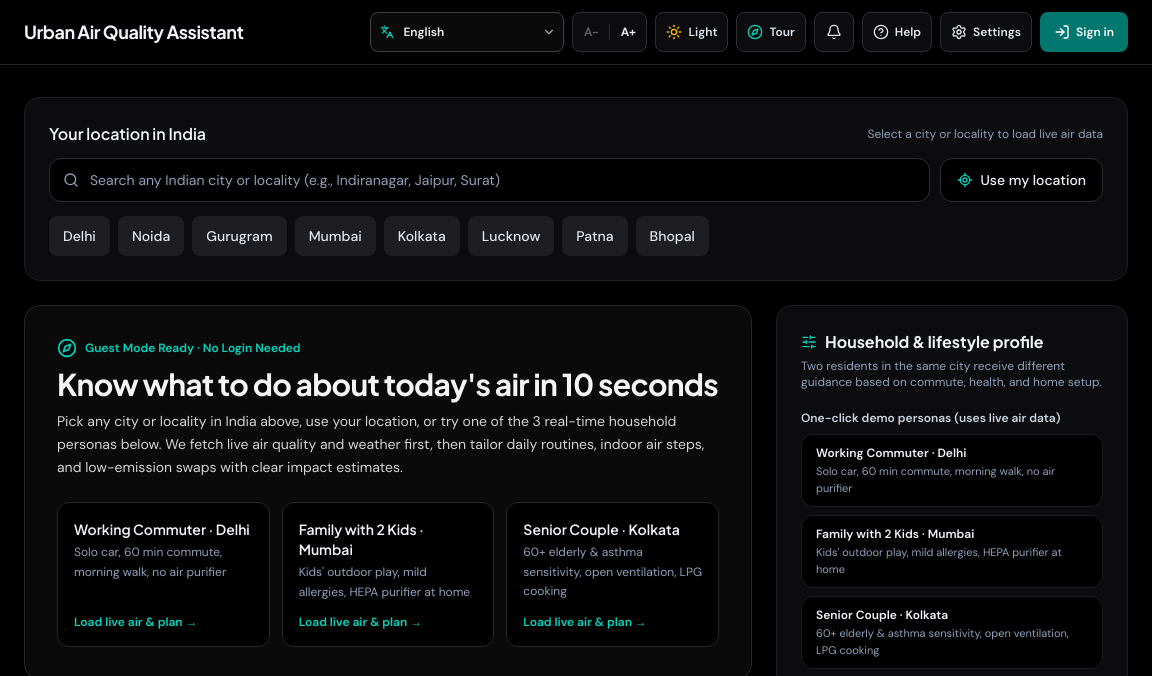
Test case: Top toolbar controls (Regional Languages, Black Default Theme, Font Size, Coachmark Tour) & Separate Login Page › navigates to a dedicated separate Login page and allows returning to Guest Mode (in English & Regional Languages)
Click the button "Sign in" at (1084, 32), box [1040,12,1128,52]
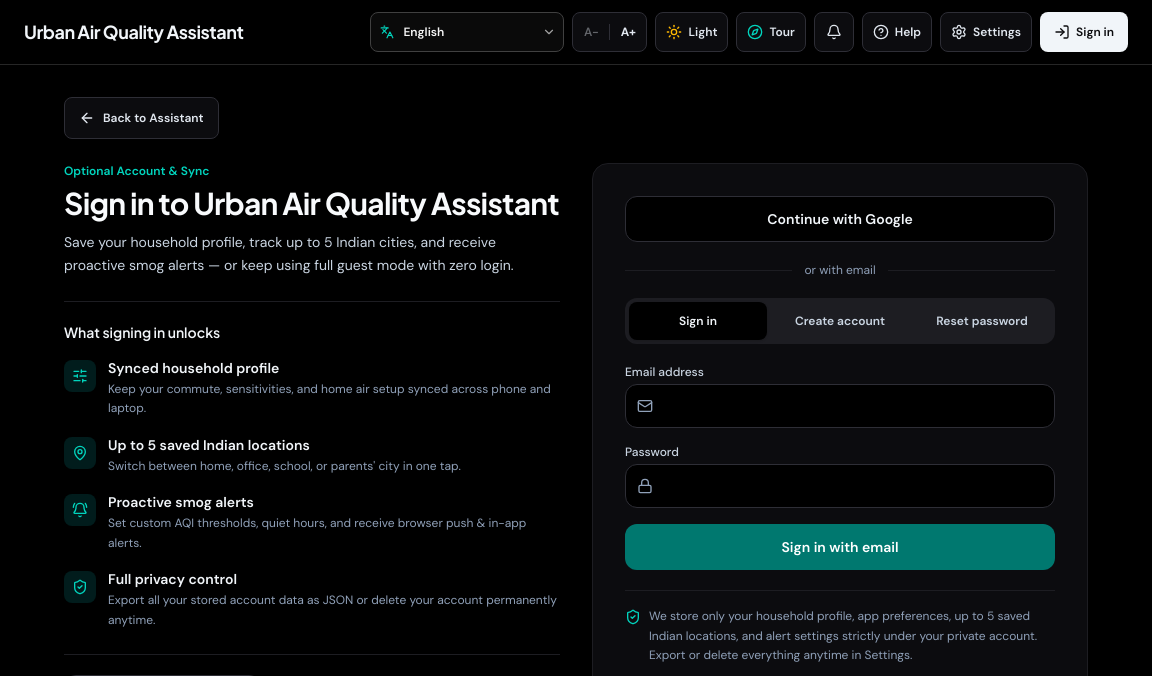
expect the heading "Sign in to Urban Air Quality Assistant" is shown: met, box [64,185,560,221]
expect the button "Continue with Google" is shown: met, box [625,196,1055,242]
expect the tab "Create account" is shown: met, box [771,302,909,340]
Switch Login page to Hindi from top bar
Select "हिन्दी (Hindi)" in the dropdown named "Select language" at (467, 32), box [370,12,564,52]
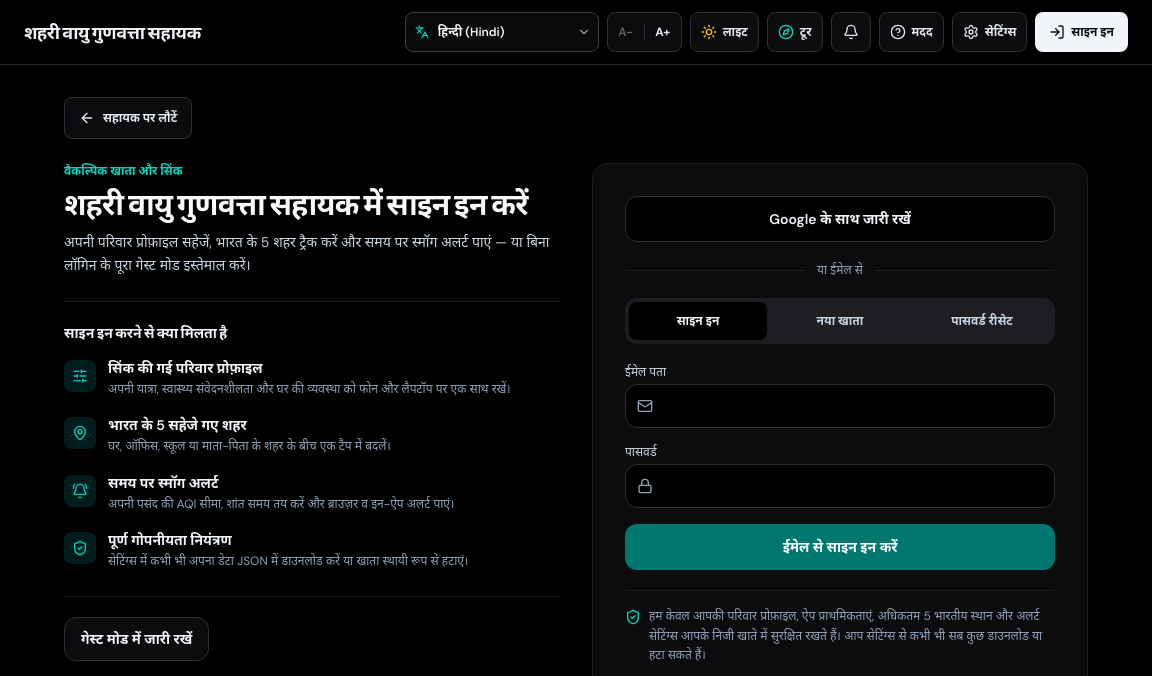
expect the heading "शहरी वायु गुणवत्ता सहायक में साइन इन करें" is shown: met, box [64,185,560,221]
Return to Assistant via Continue in Guest Mode
Click the button "गेस्ट मोड में जारी रखें" at (137, 638), box [64,616,209,660]
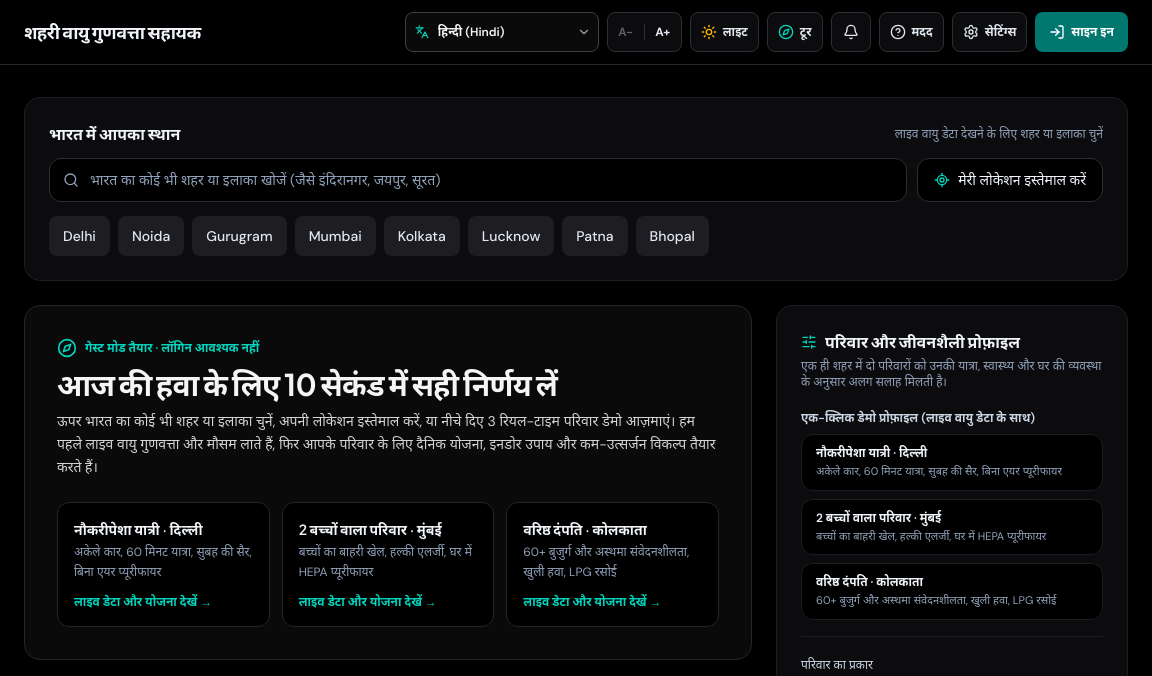
expect the heading "आज की हवा के लिए 10 सेकंड में सही निर्णय लें" is shown: met, box [57,365,557,403]
